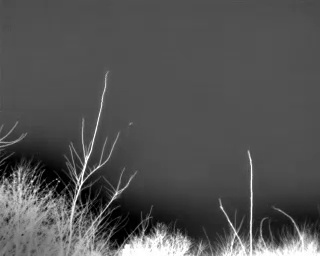BIRD: (125, 119, 135, 130)
